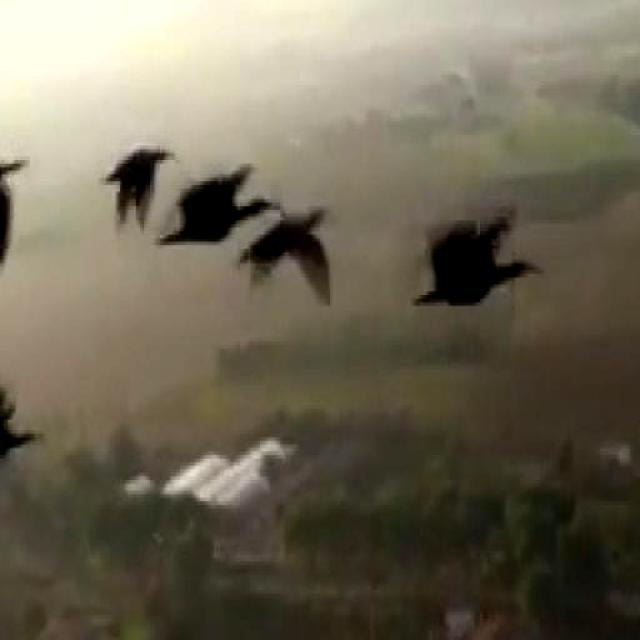airplane: (272, 181, 346, 310), (179, 160, 265, 268), (98, 140, 161, 226), (0, 152, 25, 275), (0, 368, 26, 474)
